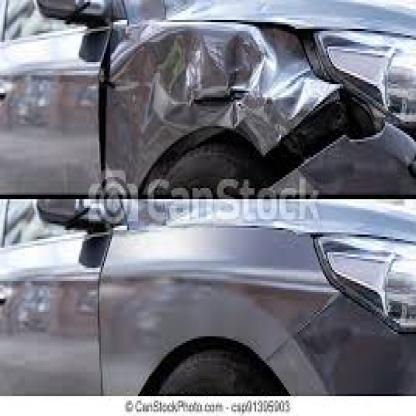dent: (150, 33, 296, 122)
